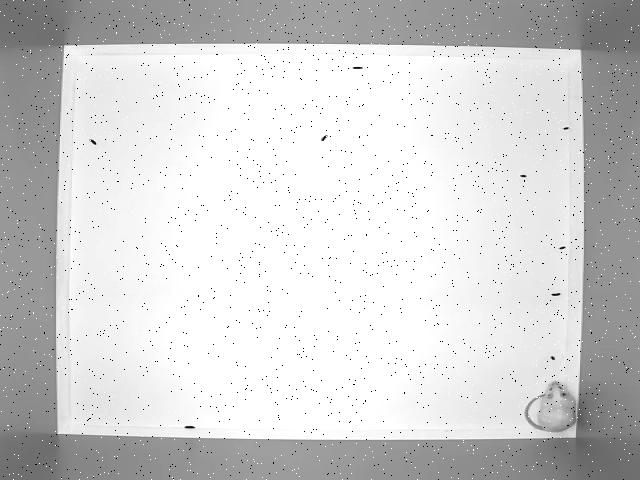Tikus: (522, 377, 576, 438)
